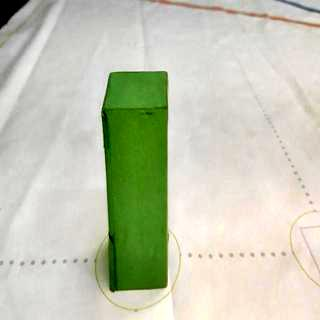greenbox: (100, 69, 173, 292)
